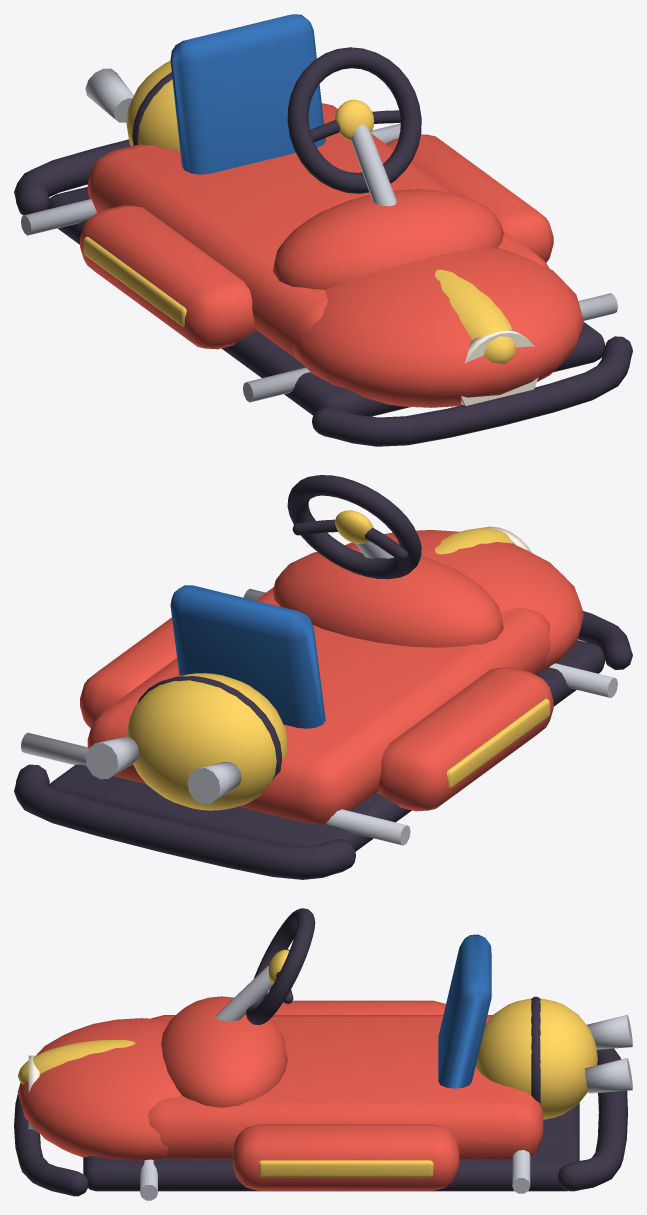
Rendered from kart_tina.glb.
3 views of the same model, one above another, from view 1: azimuth 30°, elevation 25°; view 2: azimuth 150°, elevation 25°; view 3: azimuth 270°, elevation 25° (orthographic). The views are drawn at different scales.
Visible parts, largest first — view 1: kart_tina; view 2: kart_tina; view 3: kart_tina.
Boxes of the visible parts, x1,y1,x2,y2 form: kart_tina: (14,14,632,446); kart_tina: (14,475,632,879); kart_tina: (14,908,632,1200).
Bounding box in the file's own units: 1.04 × 0.6874 × 1.7.
